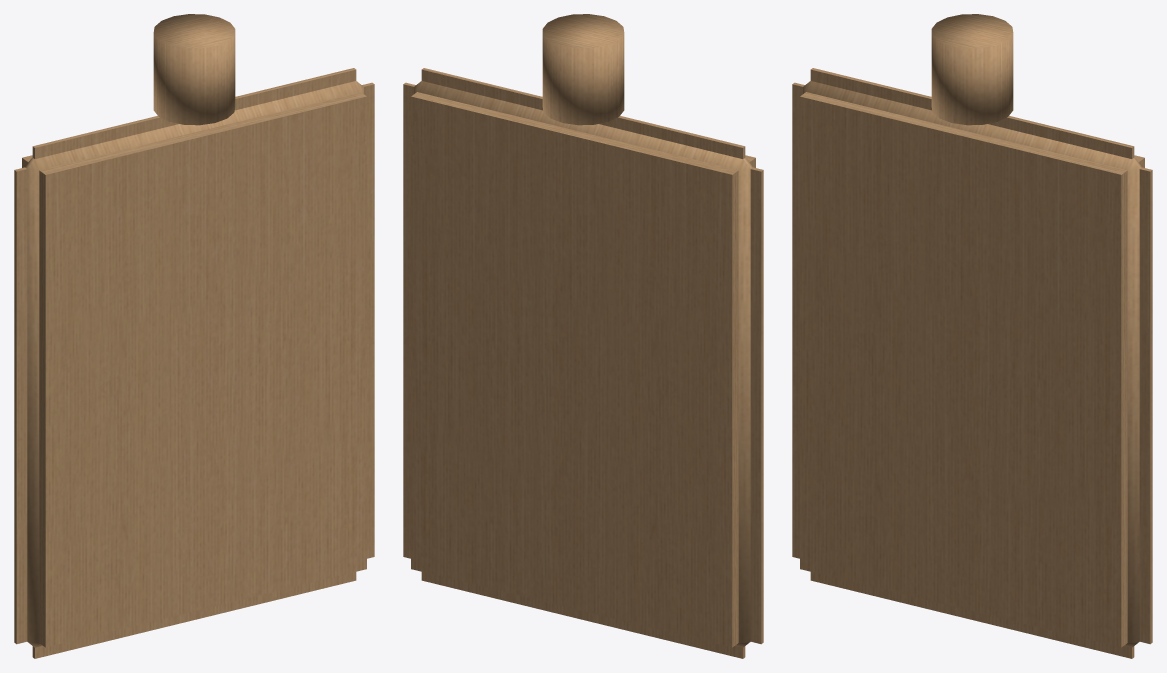
File: shared.chopping_board.gltf
3 views of the same model, side by side, from view 1: azimuth 30°, elevation 25°; view 2: azimuth 150°, elevation 25°; view 3: azimuth 330°, elevation 25° (orthographic).
Visible parts, largest first — view 1: shared.chopping_board.oak-board; view 2: shared.chopping_board.oak-board; view 3: shared.chopping_board.oak-board.
Boxes of the visible parts, x1,y1,x2,y2 form: shared.chopping_board.oak-board: (14, 14, 374, 658); shared.chopping_board.oak-board: (403, 14, 763, 658); shared.chopping_board.oak-board: (792, 14, 1152, 658).
Size of the model in its own units: 0.22 by 0.345 by 0.044.
1 material, 1 textured.
